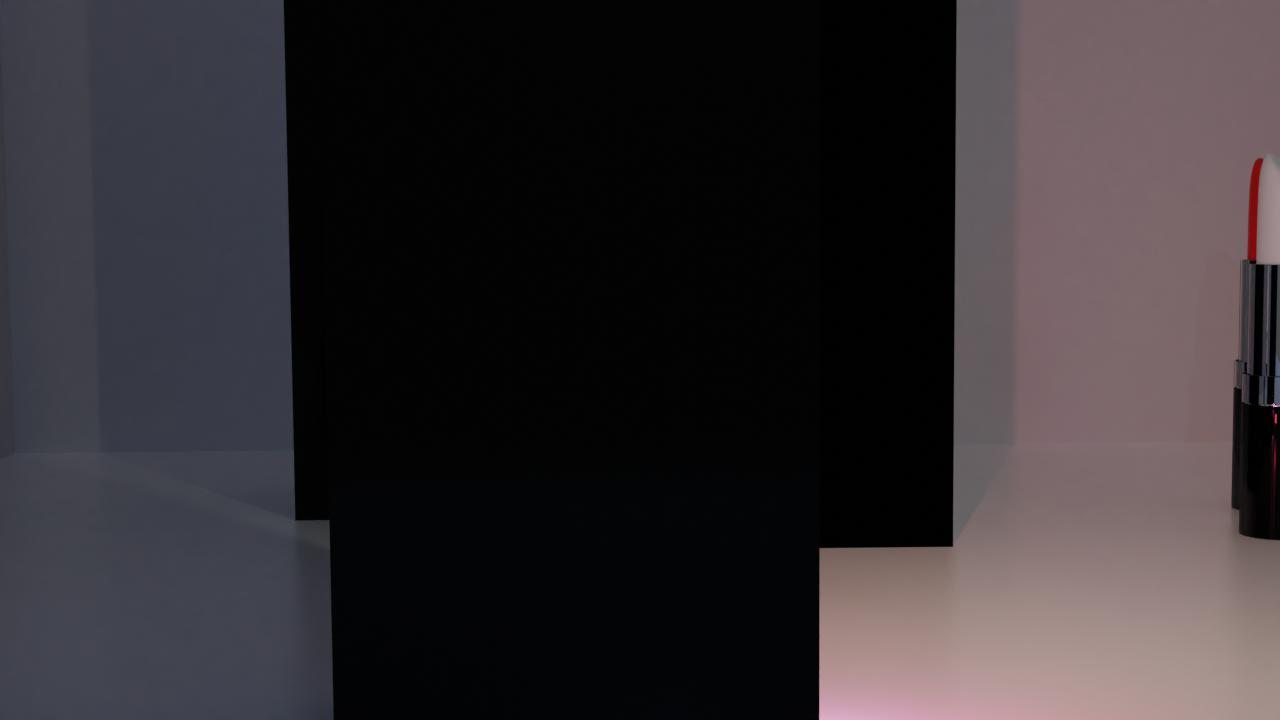CLASSIFIER_NAME: (1237, 148, 1280, 540)
